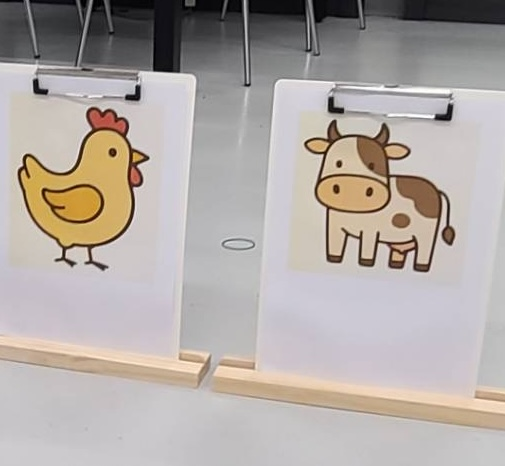chick: (13, 104, 153, 288)
